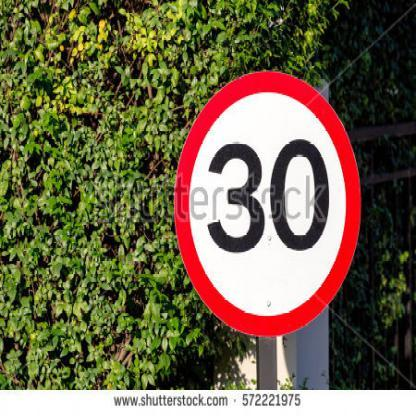Speed Limit 30: (177, 72, 360, 334)
